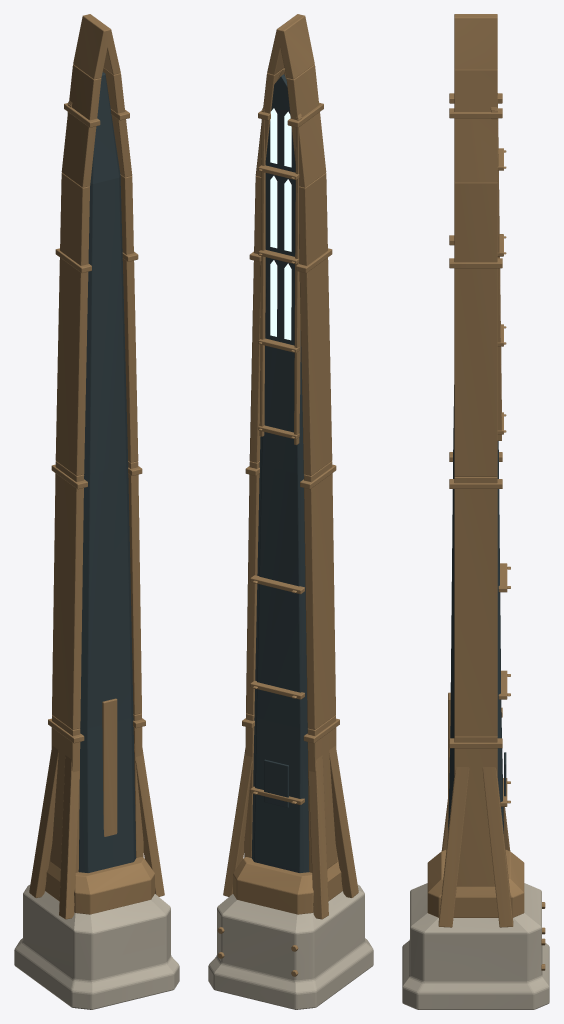
File: arrival-beacon.glb
3 renders of one model, left to right at view 1: azimuth 30°, elevation 25°; view 2: azimuth 150°, elevation 25°; view 3: azimuth 270°, elevation 25°, orthographic.
Visible parts, largest first — view 1: arrival-beacon / bronze, arrival-beacon / recess, arrival-beacon / stone; view 2: arrival-beacon / bronze, arrival-beacon / recess, arrival-beacon / stone, arrival-beacon / light; view 3: arrival-beacon / bronze, arrival-beacon / stone, arrival-beacon / recess.
Part boxes in pixels (x1,y1,x2,y2): arrival-beacon / bronze: (29, 14, 164, 919); arrival-beacon / recess: (78, 72, 136, 872); arrival-beacon / stone: (14, 885, 179, 1009); arrival-beacon / bronze: (217, 14, 358, 976); arrival-beacon / recess: (251, 74, 309, 872); arrival-beacon / stone: (208, 885, 373, 1009); arrival-beacon / light: (270, 108, 291, 340); arrival-beacon / bronze: (427, 14, 545, 970); arrival-beacon / stone: (402, 883, 549, 1009); arrival-beacon / recess: (448, 385, 506, 833).
Bounding box in the file's own units: 10 × 84 × 11.6.
